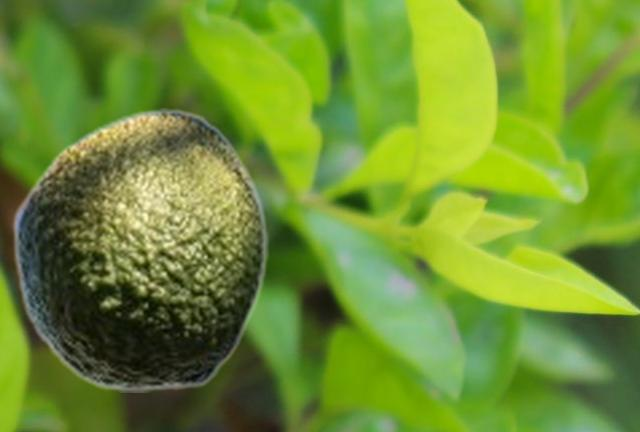avocado: (11, 108, 267, 391)
